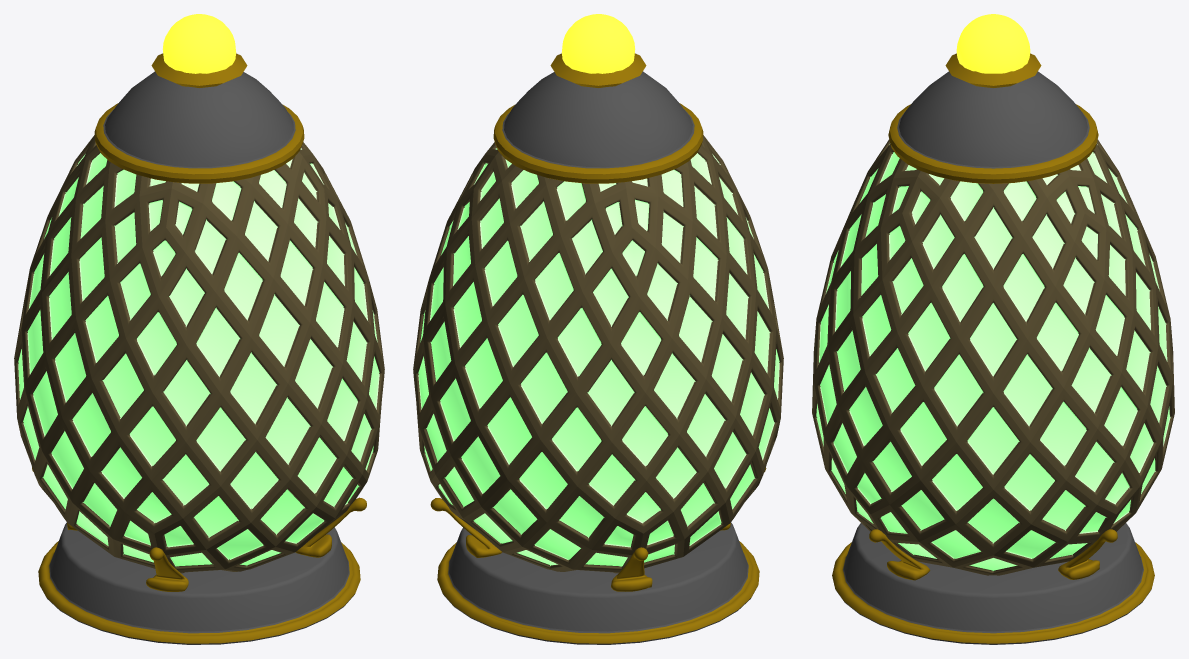
Rendered from Turtle Egg 2x2 v2.fbx.
The picture shows the model from 3 angles, left to right: view 1: azimuth 30°, elevation 25°; view 2: azimuth 150°, elevation 25°; view 3: azimuth 270°, elevation 25°; orthographic projection.
Parts seen in each view (by area): view 1: Egg.001, Base, Egg_top.001, Sphere.002, Retopo_Support.003, Torus.002; view 2: Egg.001, Base, Egg_top.001, Sphere.002, Retopo_Support.003, Torus.002; view 3: Egg.001, Base, Egg_top.001, Sphere.002, Retopo_Support.003, Torus.002.
Boxes of the visible parts, x1,y1,x2,y2 form: Egg.001: (14, 135, 384, 573); Base: (38, 522, 360, 644); Egg_top.001: (94, 71, 304, 183); Sphere.002: (162, 14, 236, 73); Retopo_Support.003: (32, 467, 366, 591); Torus.002: (151, 53, 247, 87); Egg.001: (413, 135, 783, 573); Base: (437, 522, 759, 644); Egg_top.001: (493, 71, 703, 183); Sphere.002: (561, 14, 635, 73); Retopo_Support.003: (430, 467, 766, 591); Torus.002: (550, 53, 646, 87); Egg.001: (812, 139, 1174, 575); Base: (832, 523, 1154, 644); Egg_top.001: (888, 71, 1098, 183); Sphere.002: (956, 14, 1030, 73); Retopo_Support.003: (869, 529, 1117, 580); Torus.002: (945, 53, 1041, 87).
Bounding box in the file's own units: 197 × 335 × 197.
